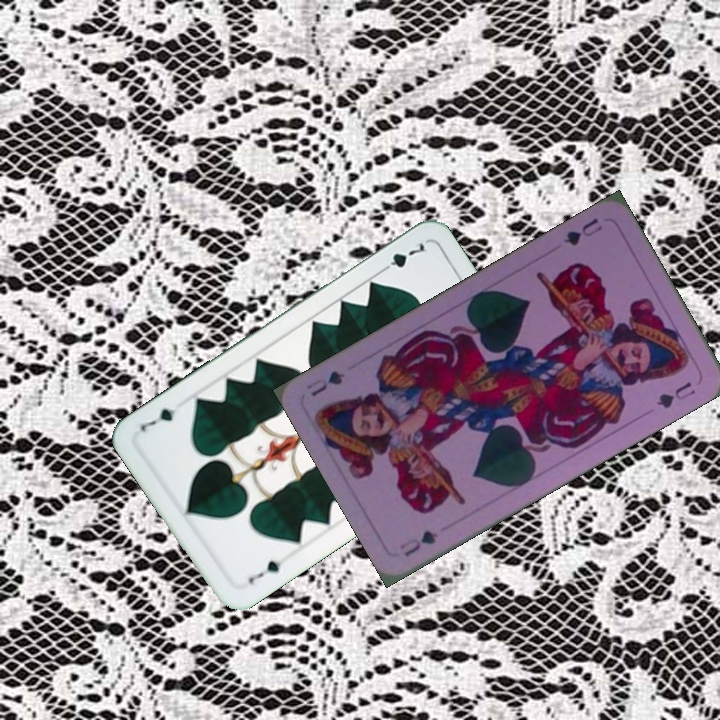G7: (375, 238, 428, 277), (244, 555, 290, 587)
GU: (559, 213, 605, 249), (395, 526, 441, 560)
